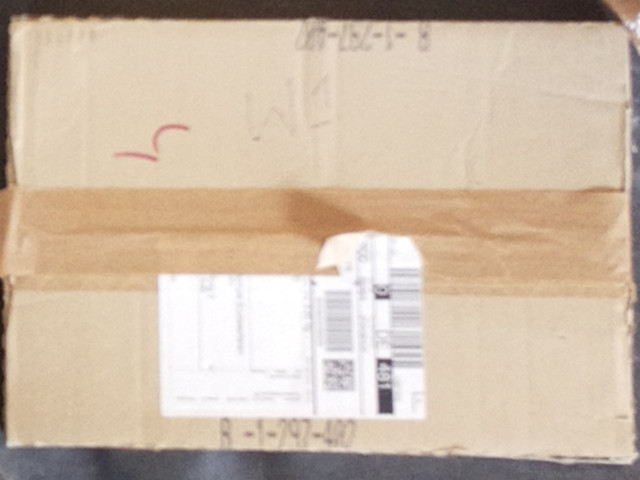cardboard: (8, 21, 619, 460)
